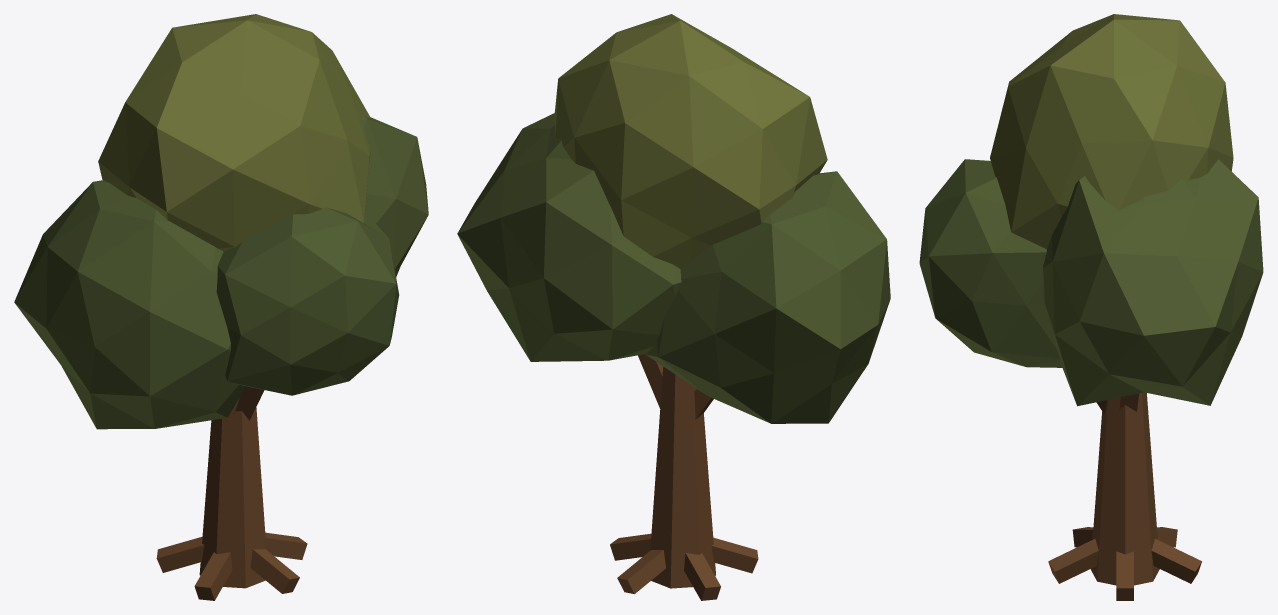
The model's file is tree.glb.
The picture shows the model from 3 angles, left to right: view 1: azimuth 30°, elevation 25°; view 2: azimuth 150°, elevation 25°; view 3: azimuth 270°, elevation 25°; orthographic projection.
Parts seen in each view (by area): view 1: Foliage, Timber; view 2: Foliage, Timber; view 3: Foliage, Timber.
Boxes of the visible parts, x1,y1,x2,y2 form: Foliage: [14, 14, 428, 429]; Timber: [156, 386, 307, 600]; Foliage: [457, 14, 890, 423]; Timber: [610, 354, 758, 600]; Foliage: [919, 14, 1263, 406]; Timber: [1048, 392, 1201, 600].
Bounding box in the file's own units: 4.85 × 6.52 × 3.66.
